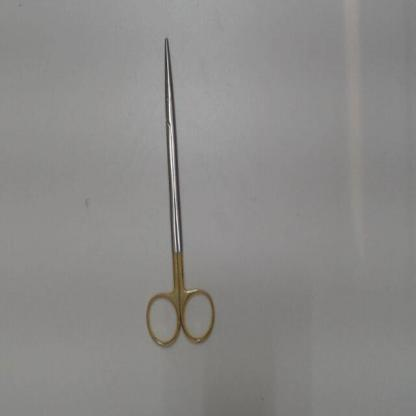7 Metzenbaum Scissors: (142, 36, 218, 351)
